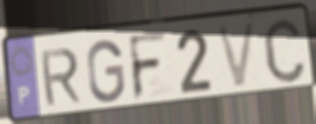2: (176, 26, 217, 97)
C: (260, 15, 308, 86)
F: (126, 29, 170, 104)
G: (85, 37, 127, 105)
R: (38, 46, 84, 110)
V: (213, 17, 259, 92)
